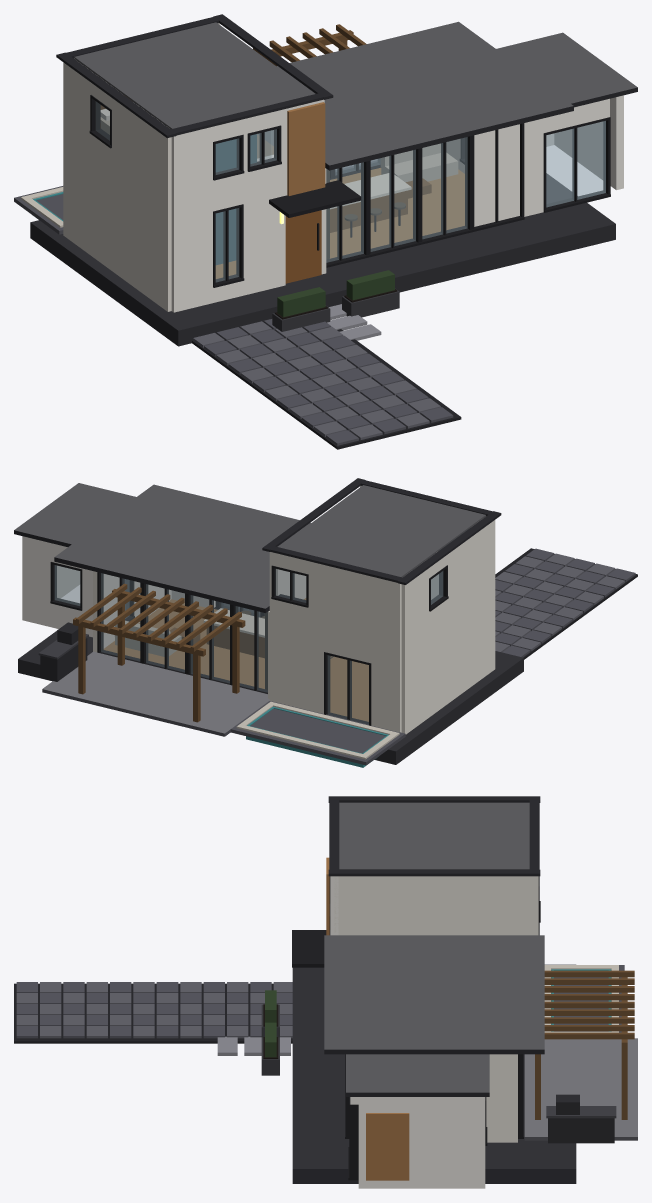
File: residence.glb
The picture shows the model from 3 angles, top to bottom: view 1: azimuth 30°, elevation 25°; view 2: azimuth 150°, elevation 25°; view 3: azimuth 270°, elevation 25°; orthographic projection. The views are drawn at different scales.
Visible parts, largest first — view 1: window (×9), roofB, finFrontA, driveway-pavers, site, roofA, finWestA, addition, kitchen, interior, pergolaRoof, pool (+2 smaller); view 2: roofB, finBackA, window (×8), roofA, finWestA, driveway-pavers, patio, addition, pool, pergolaRoof, interior, site (+5 smaller); view 3: roofB, driveway-pavers, addition, roofA, site, finEastA, patio, pergolaRoof, bbq, finEastB, finFrontA, pool (+2 smaller).
Part boxes in pixels (left/top/right/bottom): window (×9): left=89, top=95, right=610, bottom=287; roofB: left=276, top=21, right=573, bottom=170; finFrontA: left=171, top=99, right=361, bottom=312; driveway-pavers: left=192, top=270, right=461, bottom=449; site: left=30, top=173, right=615, bottom=346; roofA: left=56, top=14, right=333, bottom=138; finWestA: left=63, top=62, right=171, bottom=311; addition: left=474, top=32, right=637, bottom=226; kitchen: left=325, top=143, right=458, bottom=259; interior: left=215, top=168, right=464, bottom=278; pergolaRoof: left=253, top=24, right=366, bottom=66; pool: left=14, top=186, right=63, bottom=234; roofB: left=54, top=484, right=310, bottom=612; finBackA: left=268, top=552, right=401, bottom=732; window (×8): left=50, top=562, right=448, bottom=725; roofA: left=262, top=478, right=501, bottom=584; finWestA: left=401, top=520, right=495, bottom=734; driveway-pavers: left=495, top=548, right=637, bottom=659; patio: left=42, top=651, right=269, bottom=736; addition: left=14, top=483, right=215, bottom=637; pool: left=230, top=701, right=405, bottom=767; pergolaRoof: left=73, top=583, right=245, bottom=656; interior: left=103, top=599, right=368, bottom=721; site: left=18, top=603, right=523, bottom=764; roofB: left=324, top=935, right=544, bottom=1054; driveway-pavers: left=14, top=982, right=292, bottom=1075; addition: left=346, top=1054, right=489, bottom=1188; roofA: left=328, top=796, right=540, bottom=876; site: left=292, top=964, right=576, bottom=1183; finEastA: left=334, top=876, right=534, bottom=935; patio: left=524, top=1038, right=637, bottom=1140; pergolaRoof: left=544, top=970, right=634, bottom=1048; bbq: left=546, top=1094, right=616, bottom=1143; finEastB: left=486, top=1054, right=517, bottom=1142; finFrontA: left=292, top=857, right=338, bottom=967; pool: left=544, top=965, right=624, bottom=1032.
Size of what is drawn, in the model's own units: 16.15 by 6.18 by 18.7.
